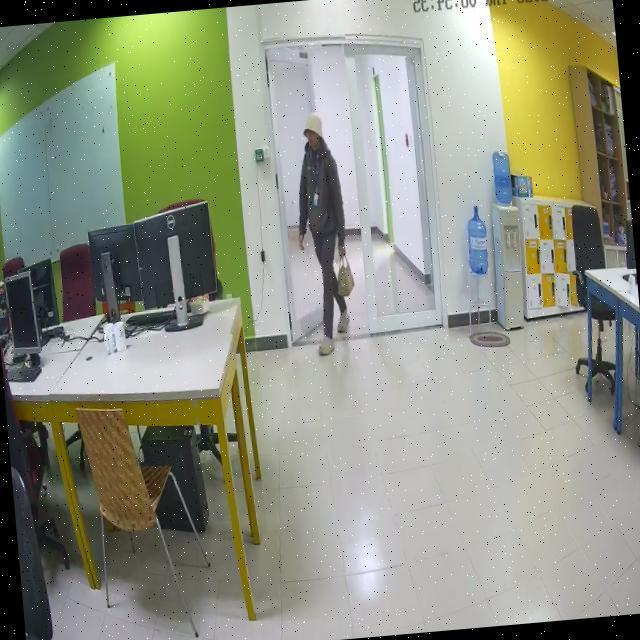person: (292, 116, 358, 355)
